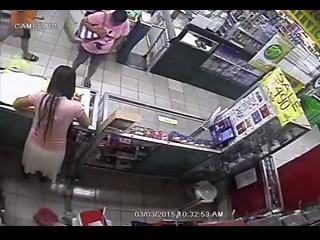Normal: (12, 66, 92, 190), (70, 10, 131, 88), (1, 10, 42, 63)
